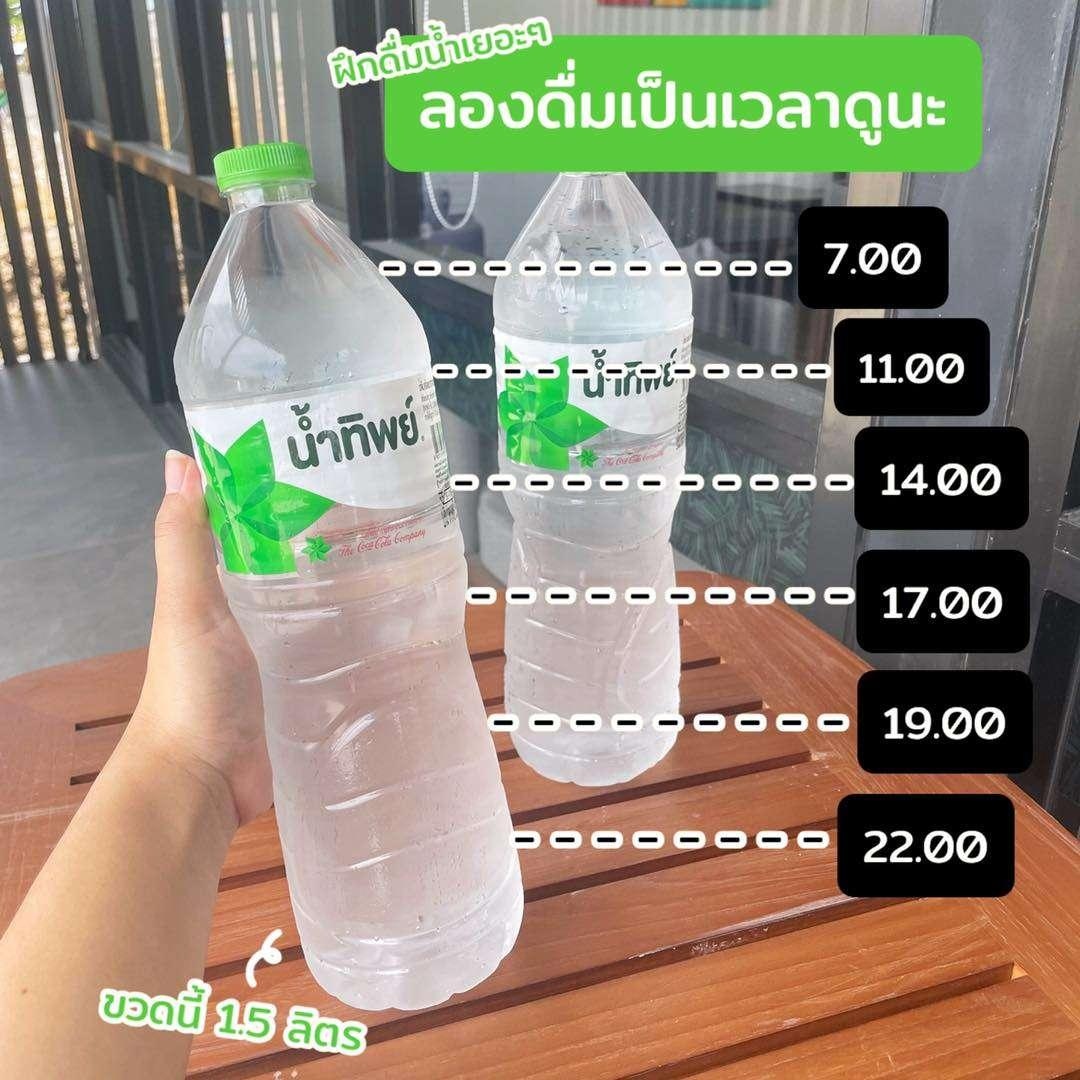plastic_bottle: (170, 139, 527, 1016), (491, 132, 692, 791)
